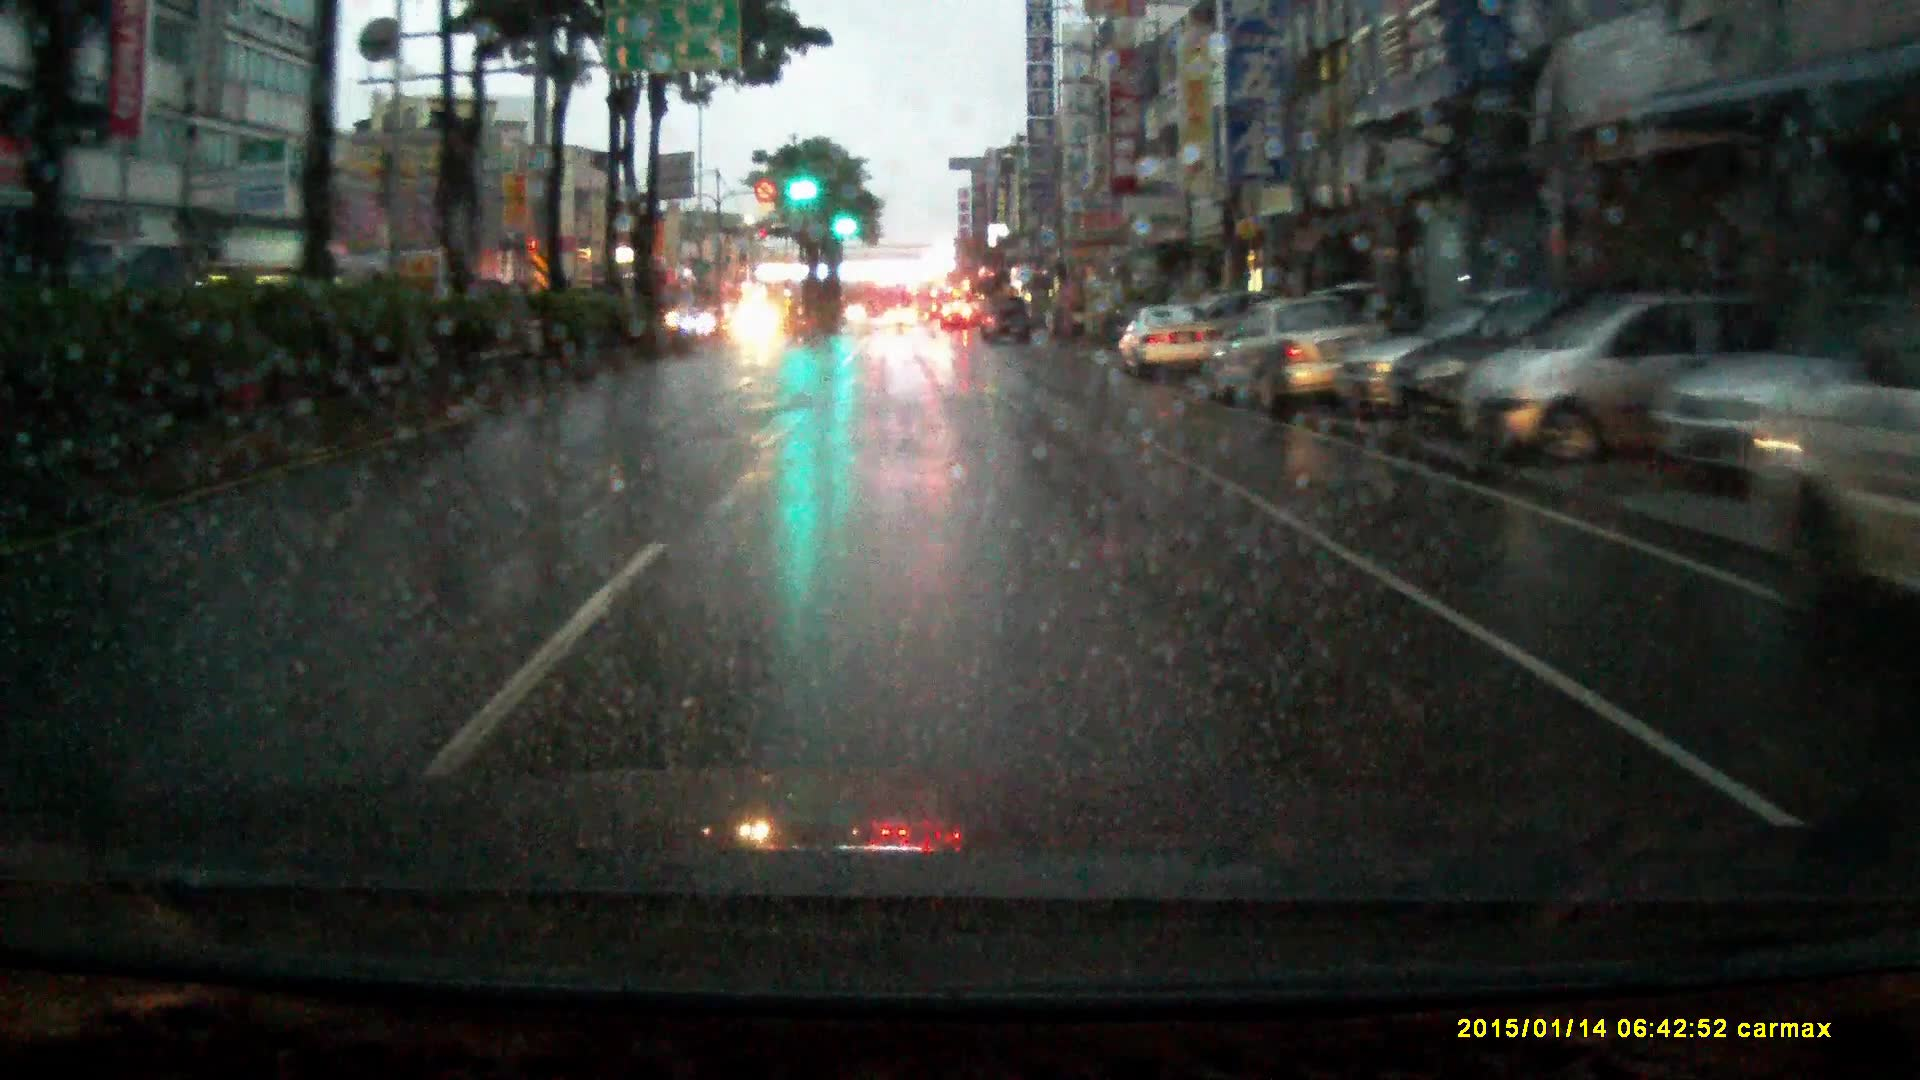vehicle: (1464, 291, 1799, 468), (1751, 286, 1920, 615), (1651, 314, 1920, 492), (1207, 289, 1393, 425), (1120, 303, 1215, 385), (978, 291, 1033, 343), (731, 301, 785, 348), (914, 277, 940, 318), (940, 298, 975, 328), (886, 303, 918, 324)
